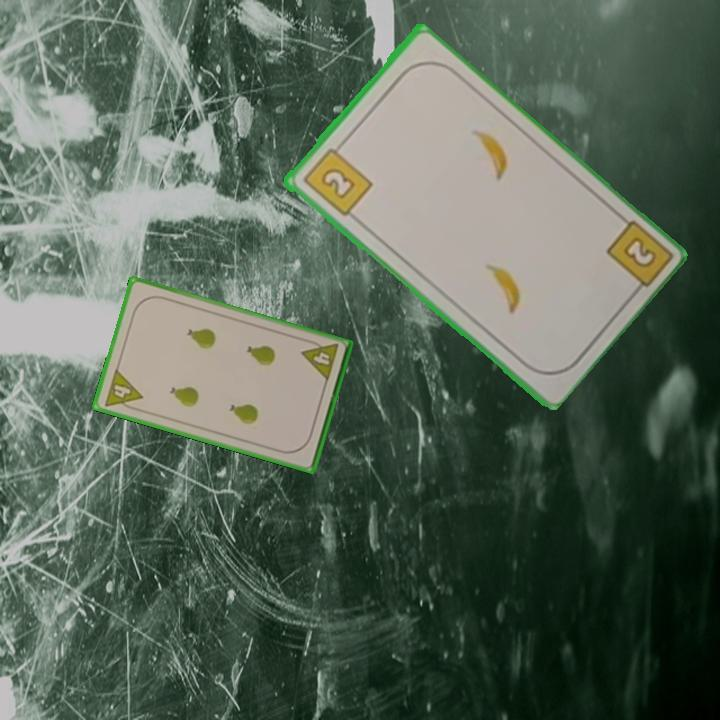2b: (298, 139, 375, 220), (601, 216, 672, 301)
4p: (100, 365, 145, 414), (298, 336, 341, 384)
